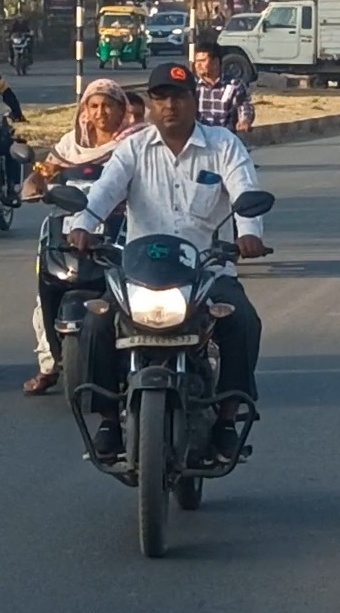BikeWithRider: (64, 60, 278, 561), (14, 76, 147, 400)
NoHelmet: (142, 60, 198, 140), (77, 77, 131, 132)
